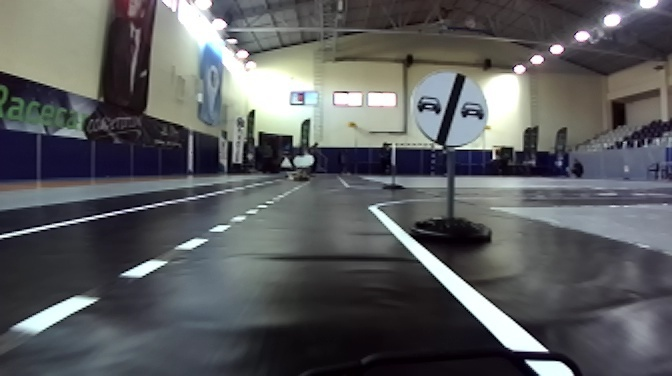sollama_serbest: (409, 72, 489, 147)
